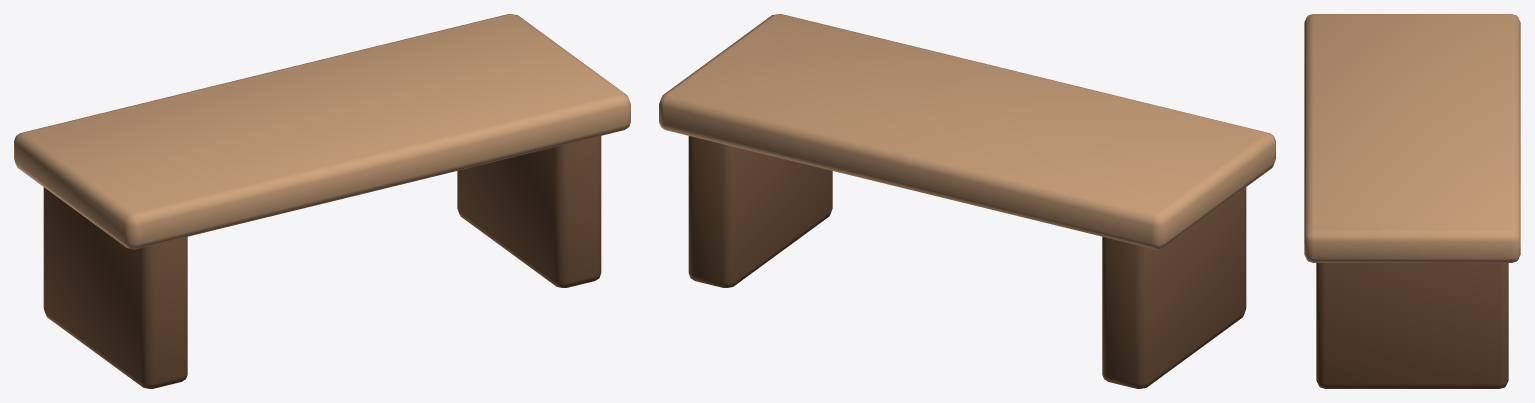
File: Decor_SmallShelf.fbx
3 renders of one model, left to right at view 1: azimuth 30°, elevation 25°; view 2: azimuth 150°, elevation 25°; view 3: azimuth 270°, elevation 25°, orthographic. The views are drawn at different scales.
Visible parts, largest first — view 1: Shelf_Plank, Shelf_LegR, Shelf_LegL; view 2: Shelf_Plank, Shelf_LegR, Shelf_LegL; view 3: Shelf_Plank, Shelf_LegL.
Boxes of the visible parts, x1,y1,x2,y2 form: Shelf_Plank: (14,14,630,249); Shelf_LegR: (43,187,187,388); Shelf_LegL: (457,136,601,287); Shelf_Plank: (659,14,1275,249); Shelf_LegR: (1102,187,1246,388); Shelf_LegL: (688,136,832,287); Shelf_Plank: (1304,14,1520,262); Shelf_LegL: (1316,263,1508,388).
Size of the model in its own units: 8.8 by 3.1 by 3.6.
